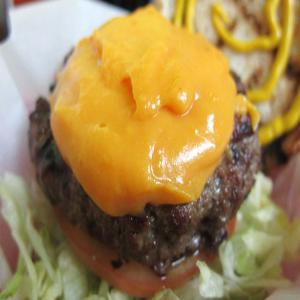cheeseburger: (19, 9, 269, 289)
